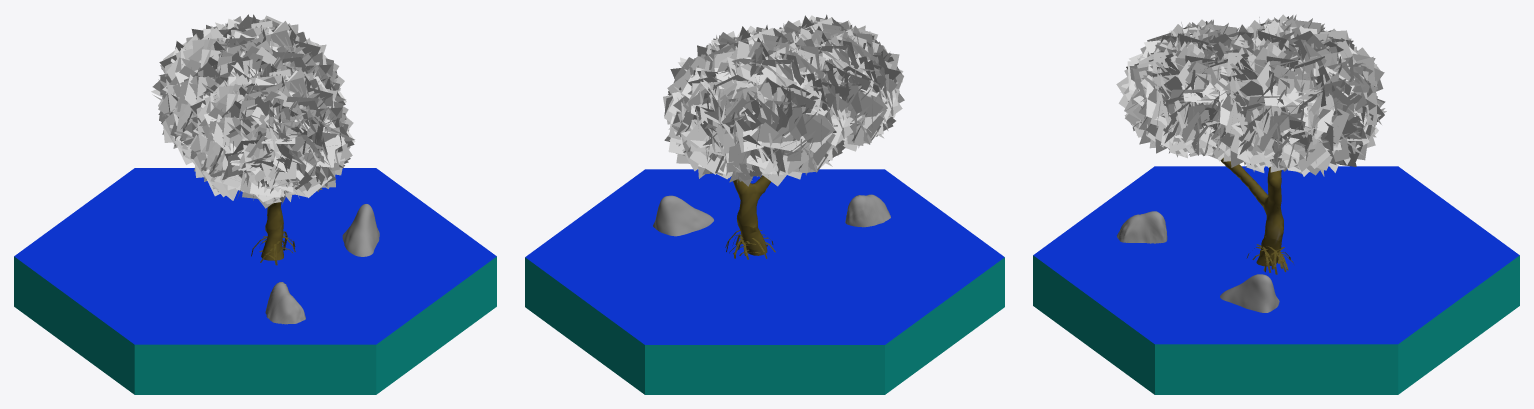
File: Tuile_Eau_Foret_Niv1.fbx
3 renders of one model, left to right at view 1: azimuth 30°, elevation 25°; view 2: azimuth 150°, elevation 25°; view 3: azimuth 270°, elevation 25°, orthographic.
Visible parts, largest first — view 1: Tuile, Plane.010, niv1.004; view 2: Tuile, Plane.010, niv1.004; view 3: Tuile, Plane.010, niv1.004.
Boxes of the visible parts, <box> form: Tuile: <box>14,168,496,394</box>; Plane.010: <box>151,14,355,265</box>; niv1.004: <box>265,204,379,324</box>; Tuile: <box>525,169,1004,394</box>; Plane.010: <box>663,14,904,259</box>; niv1.004: <box>653,194,890,236</box>; Tuile: <box>1033,166,1519,394</box>; Plane.010: <box>1116,14,1386,274</box>; niv1.004: <box>1117,211,1279,312</box>.
Bounding box in the file's own units: 107 × 78.57 × 124.
